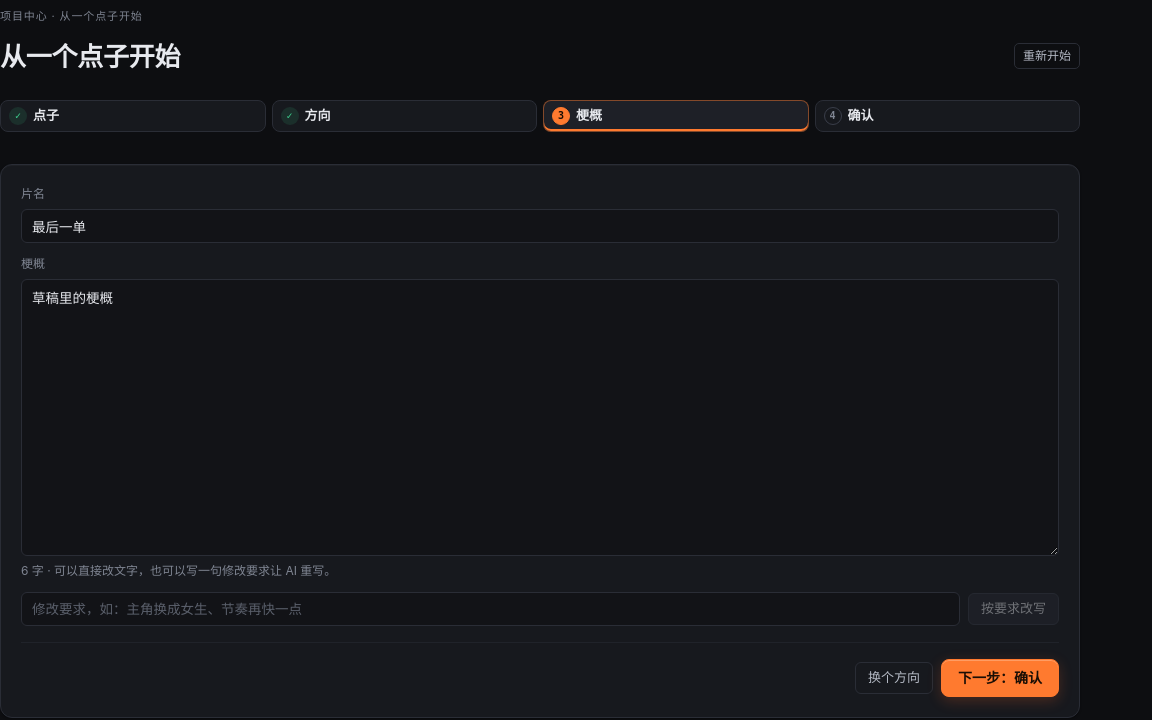
Test: StartPage（从一个点子开始） › 刷新后从本机草稿接着来；「重新开始」清掉
The image size is (1152, 720).
Expected: the text box labelled "梗概" holds "草稿里的梗概", [21,278,1059,556]
Expected: the field labelled "片名" holds "最后一单", [21,208,1059,242]
# 回到方向：选中的卡片还在
Click the button "换个方向" at (894, 678), box [855,662,933,694]
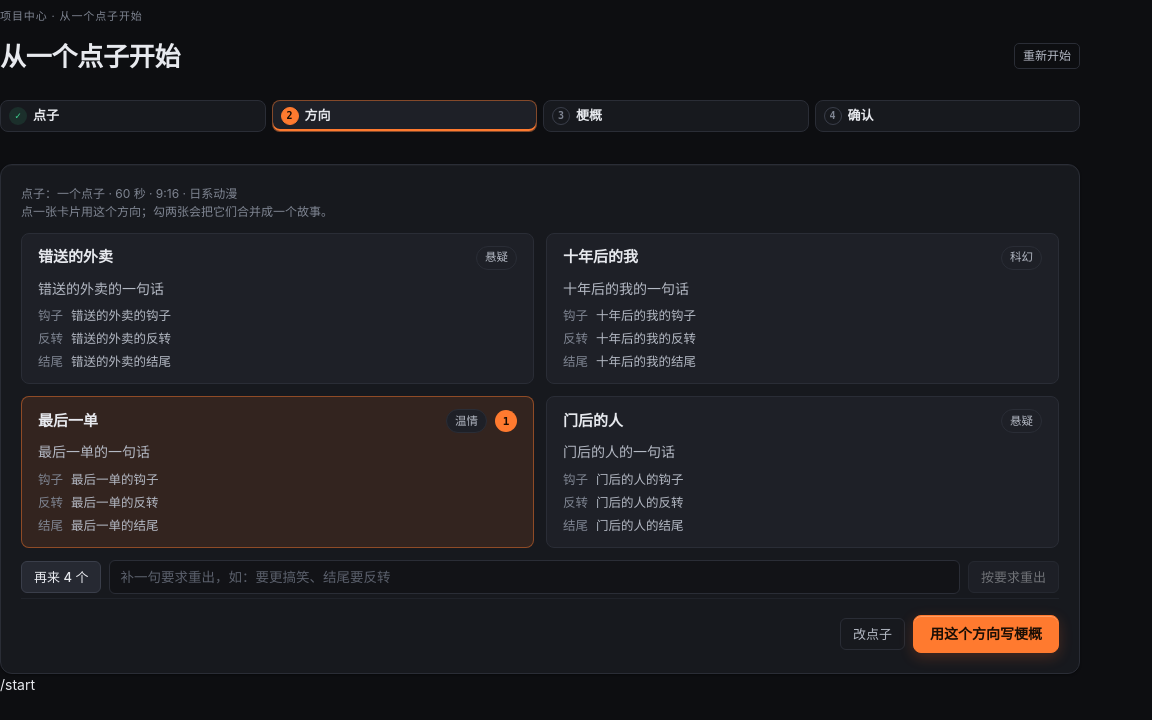
Expected: the checkbox named "选「最后一单」" is checked, [21,396,534,548]
Expected: the text "点子：一个点子 · 60 秒 · 9:16 · 日系动漫" is shown, [21,186,237,200]
Click the checkbox named "选「门后的人」" at (593, 421), box [546,396,1059,548]
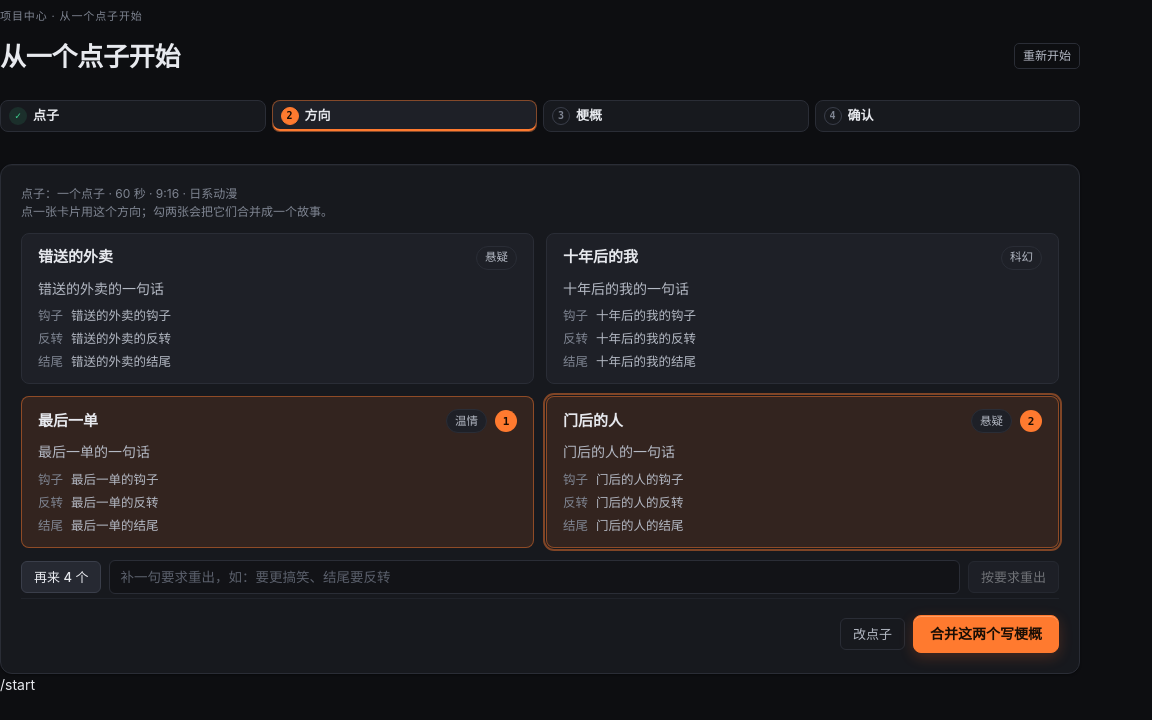
Click the button "重新开始" at (1047, 56), box [1014,43,1080,69]
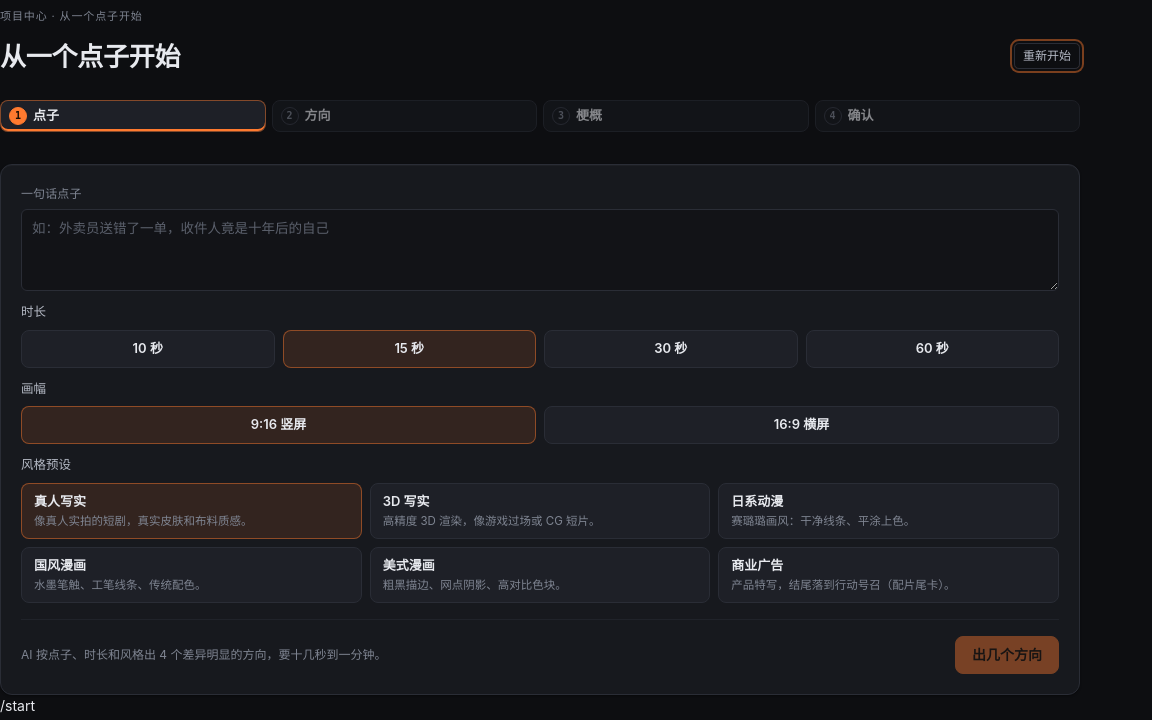
Expected: the text box labelled "一句话点子" is empty, [21,208,1059,291]
Expected: the radio button labelled "15 秒" is checked, [282,330,536,368]
